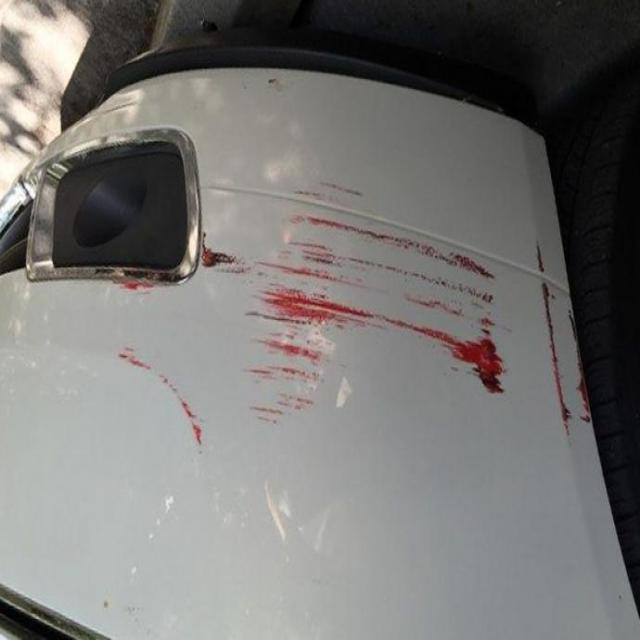scratch: (107, 158, 596, 500)
